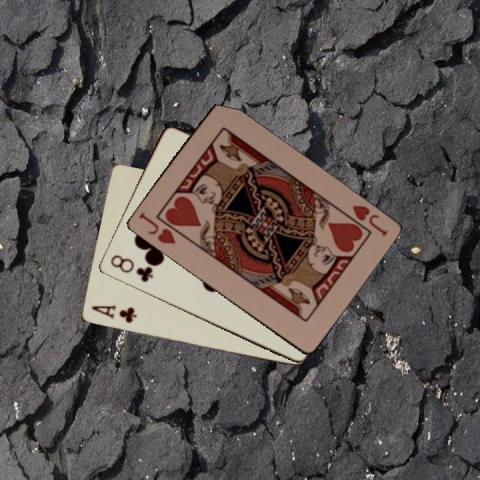8c: (106, 251, 154, 284)
Ac: (88, 302, 138, 325)
Jh: (135, 209, 177, 245), (349, 202, 389, 239)
